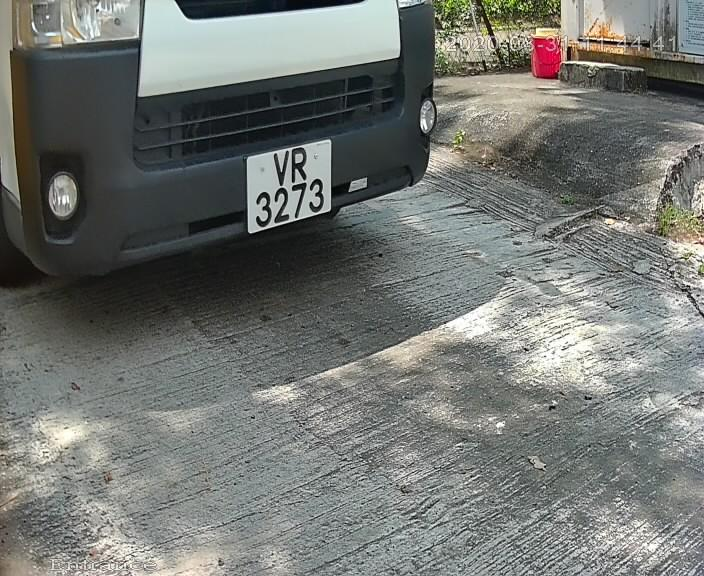License Plate: (236, 137, 340, 240)
